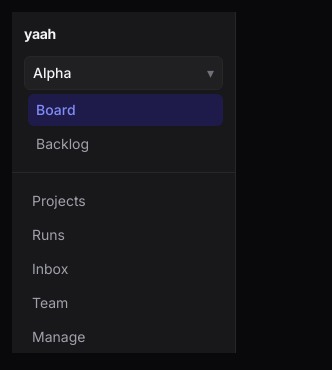
Test: Sidebar › opens the switcher and lists projects + New project
Expected: the text "Alpha" is shown, top-left (33, 63), bottom-right (72, 83)
Click the button "Alpha ▾" at x=124, y=73, box top-left (24, 56), bottom-right (223, 90)
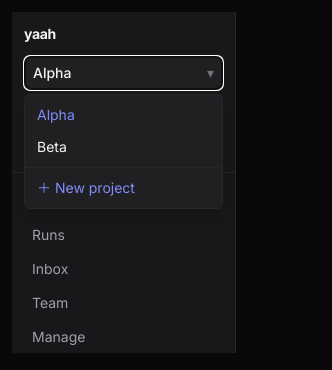
Now the button "Beta" is shown, box top-left (25, 131), bottom-right (222, 163)
Now the button "＋ New project" is shown, box top-left (25, 172), bottom-right (222, 204)
